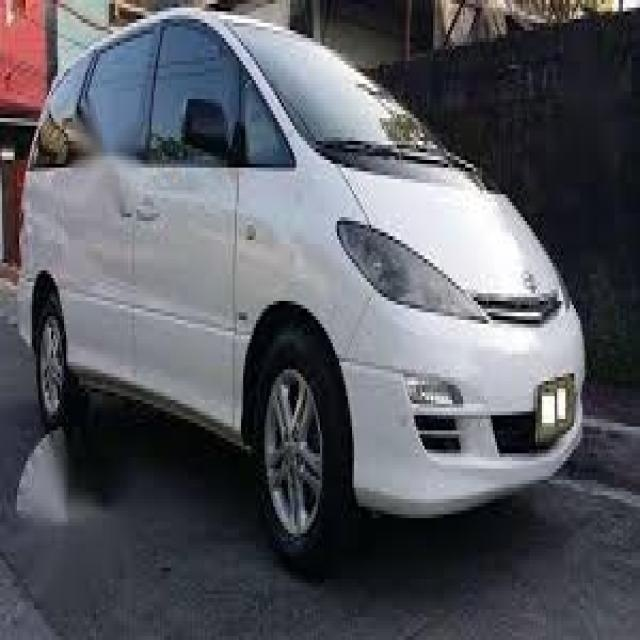Van: (8, 8, 589, 575)
